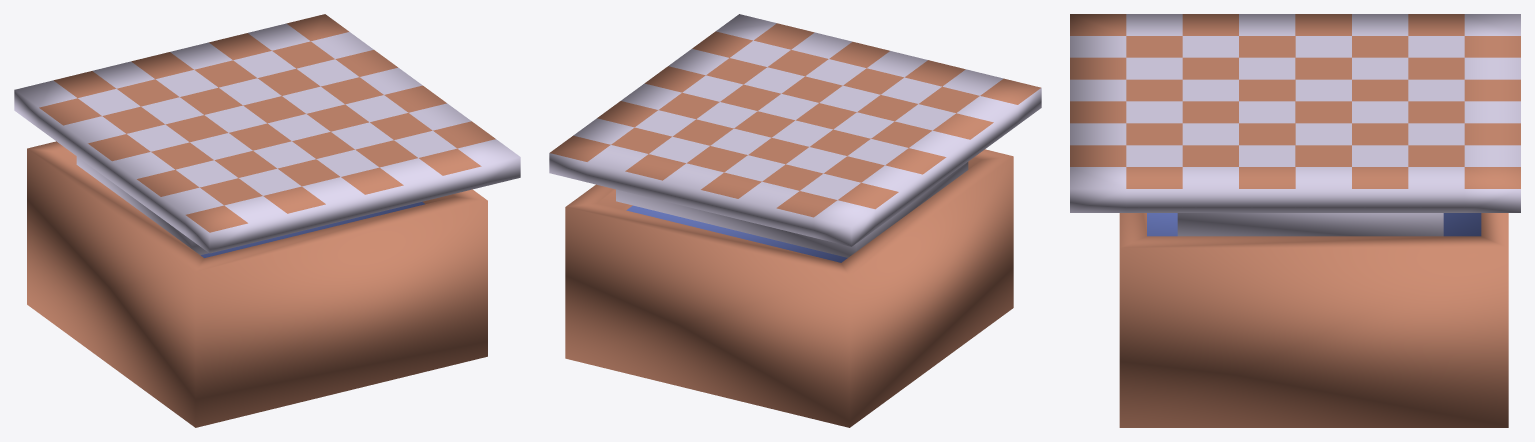
The model's file is richard_murray_chesstable_02.glb.
3 renders of one model, left to right at view 1: azimuth 30°, elevation 25°; view 2: azimuth 150°, elevation 25°; view 3: azimuth 270°, elevation 25°, orthographic. The views are drawn at different scales.
Parts seen in each view (by area): view 1: Object_4, Object_5, Object_2; view 2: Object_4, Object_5, Object_2; view 3: Object_4, Object_5, Object_2.
Boxes of the visible parts, x1,y1,x2,y2 form: Object_4: (27, 14, 495, 427); Object_5: (14, 23, 520, 255); Object_2: (201, 202, 424, 257); Object_4: (550, 23, 1040, 427); Object_5: (549, 14, 1041, 257); Object_2: (626, 205, 847, 262); Object_4: (1070, 14, 1520, 427); Object_5: (1070, 14, 1520, 236); Object_2: (1147, 213, 1481, 236).
Size of the model in its own units: 534 by 349 by 581.
